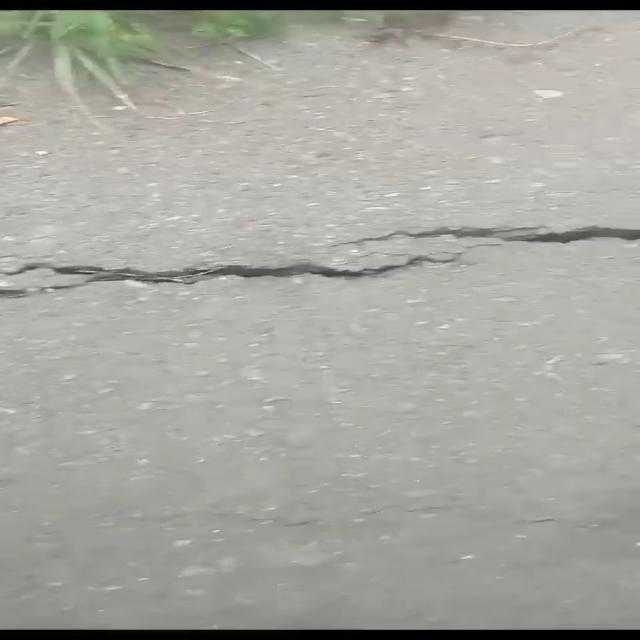Melintang: (0, 212, 640, 309)
